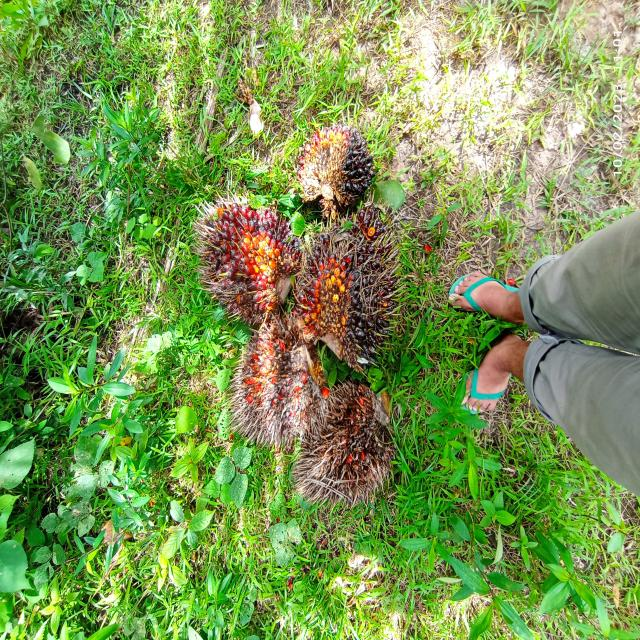fraksi 00: (286, 211, 388, 376), (277, 114, 387, 223)
fraksi 3: (177, 173, 304, 324)
fraksi 4: (292, 386, 412, 500), (228, 331, 324, 459)
